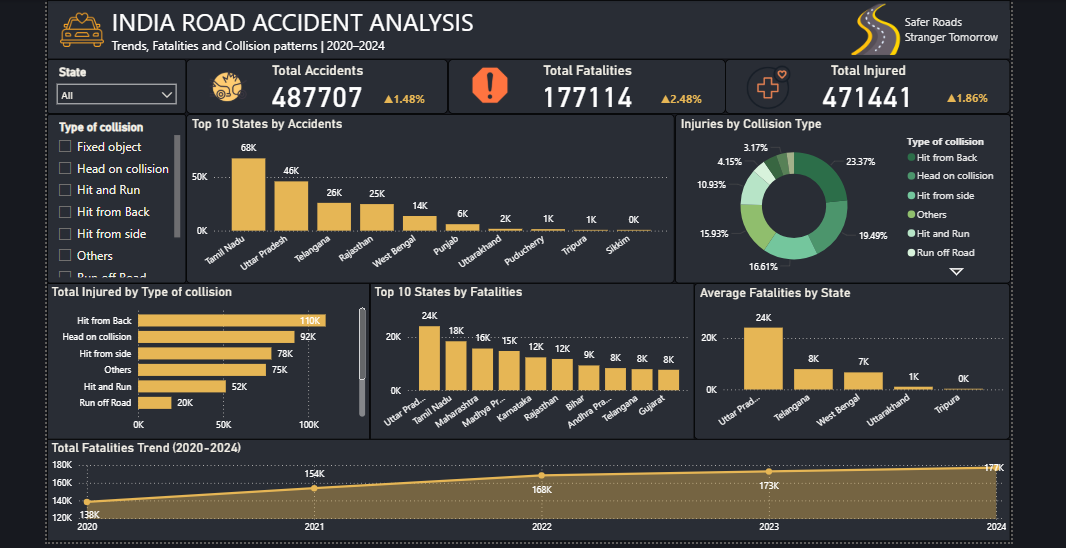

Layout of this report page (visuals, bound fields, positions):
{"tool":"powerbi","page":{"name":"Road Accident Analysis","canvas":[1280,720],"ordinal":0},"visuals":[{"type":"textbox","box":[0,0,1280,78.8],"z":1000},{"type":"clusteredColumnChart","title":"Top 10 States by Accidents","fields":{"Category":["Cleaned_Accidents.State"],"Y":["Sum(Cleaned_Accidents.2024 Accidents)"]},"box":[184.6,151.4,662.9,224.5],"z":4000},{"type":"slicer","fields":{"Values":["Cleaned_Accidents.State"]},"box":[0,78.8,185,72.5],"z":5000},{"type":"clusteredBarChart","fields":{"Category":["Cleaned_Collisions.Type of collision"],"Y":["Cleaned_Collisions.Total Injured"]},"box":[0,376.2,428.8,207.5],"z":6000},{"type":"columnChart","title":"Top 10 States by Fatalities","fields":{"Category":["Cleaned_Fatalities.State"],"Y":["Sum(Cleaned_Fatalities.2024 Killed)"]},"box":[428.8,376.2,431.2,207.5],"z":7000},{"type":"donutChart","title":"Injuries by Collision Type ","fields":{"Category":["Cleaned_Collisions.Type of collision"],"Y":["Cleaned_Collisions.Total Injured"]},"box":[847.5,151.4,433.1,224.5],"z":8000},{"type":"slicer","fields":{"Values":["Cleaned_Collisions.Type of collision"]},"box":[0,151.2,185,225],"z":9000},{"type":"image","box":[0,0,92.5,78.8],"z":10000},{"type":"columnChart","title":"Average Fatalities by State","fields":{"Y":["Cleaned_Fatalities.Average of 2024 Killed average per State"],"Category":["Cleaned_Fatalities.State"]},"box":[860,376.2,420,207.5],"z":11000},{"type":"lineChart","title":"Total Fatalities Trend (2020-2024)","fields":{"Category":["Fatalities Trend.Year"],"Y":["Sum(Fatalities Trend.Fatalities)"]},"box":[0,583.8,1280,136.2],"z":12000},{"type":"card","title":"Total Fatalities","fields":{"Values":["Sum(Cleaned_Fatalities.2024 Killed)"]},"box":[532.5,78.8,368.8,72.5],"z":15000},{"type":"card","title":"Total Injured","fields":{"Values":["Sum(Cleaned_Collisions.2024-injured)"]},"box":[901.2,78.8,378.8,72.5],"z":16000},{"type":"card","title":"Total Accidents","fields":{"Values":["Sum(Cleaned_Accidents.2024 Accidents)"]},"box":[185,78.8,347.5,72.5],"z":17000},{"type":"image","box":[195,85,90,58.8],"z":18000},{"type":"textbox","box":[442.4,115.6,77,33.2],"z":18500},{"type":"textbox","box":[810,115,73.8,33.8],"z":19000},{"type":"textbox","box":[1190.3,114.2,73.1,34.5],"z":19500},{"type":"image","box":[925,81.2,67.5,70],"z":19501},{"type":"image","box":[550,83.8,76.2,58.8],"z":19502},{"type":"image","box":[1046.8,0,107.6,78.4],"z":19503},{"type":"textbox","box":[1134.5,13.3,144.8,51.8],"z":19504}]}

Visuals, with their boxes on the page's 1280x720 design canvas (x1, y1, x2, y2). These are canvas units, not pixel positions in the 1066x548 screenshot, which may show the page scaled, cropped or inside an application window:
textbox: left=0, top=0, right=1280, bottom=79
"Top 10 States by Accidents" clusteredColumnChart: left=185, top=151, right=848, bottom=376
slicer - Cleaned_Accidents.State: left=0, top=79, right=185, bottom=151
clusteredBarChart - Cleaned_Collisions.Type of collision x Cleaned_Collisions.Total Injured: left=0, top=376, right=429, bottom=584
"Top 10 States by Fatalities" columnChart: left=429, top=376, right=860, bottom=584
"Injuries by Collision Type " donutChart: left=848, top=151, right=1281, bottom=376
slicer - Cleaned_Collisions.Type of collision: left=0, top=151, right=185, bottom=376
image: left=0, top=0, right=92, bottom=79
"Average Fatalities by State" columnChart: left=860, top=376, right=1280, bottom=584
"Total Fatalities Trend (2020-2024)" lineChart: left=0, top=584, right=1280, bottom=720
"Total Fatalities" card: left=532, top=79, right=901, bottom=151
"Total Injured" card: left=901, top=79, right=1280, bottom=151
"Total Accidents" card: left=185, top=79, right=532, bottom=151
image: left=195, top=85, right=285, bottom=144
textbox: left=442, top=116, right=519, bottom=149
textbox: left=810, top=115, right=884, bottom=149
textbox: left=1190, top=114, right=1263, bottom=149
image: left=925, top=81, right=992, bottom=151
image: left=550, top=84, right=626, bottom=143
image: left=1047, top=0, right=1154, bottom=78
textbox: left=1134, top=13, right=1279, bottom=65
